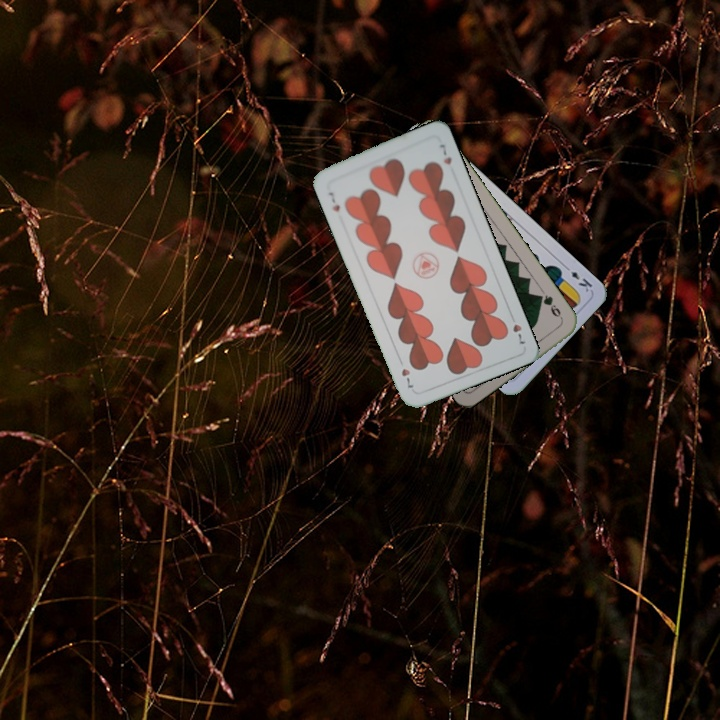EK: (560, 261, 595, 295)
G9: (534, 290, 566, 323)
H7: (506, 309, 528, 347), (324, 188, 343, 214)
